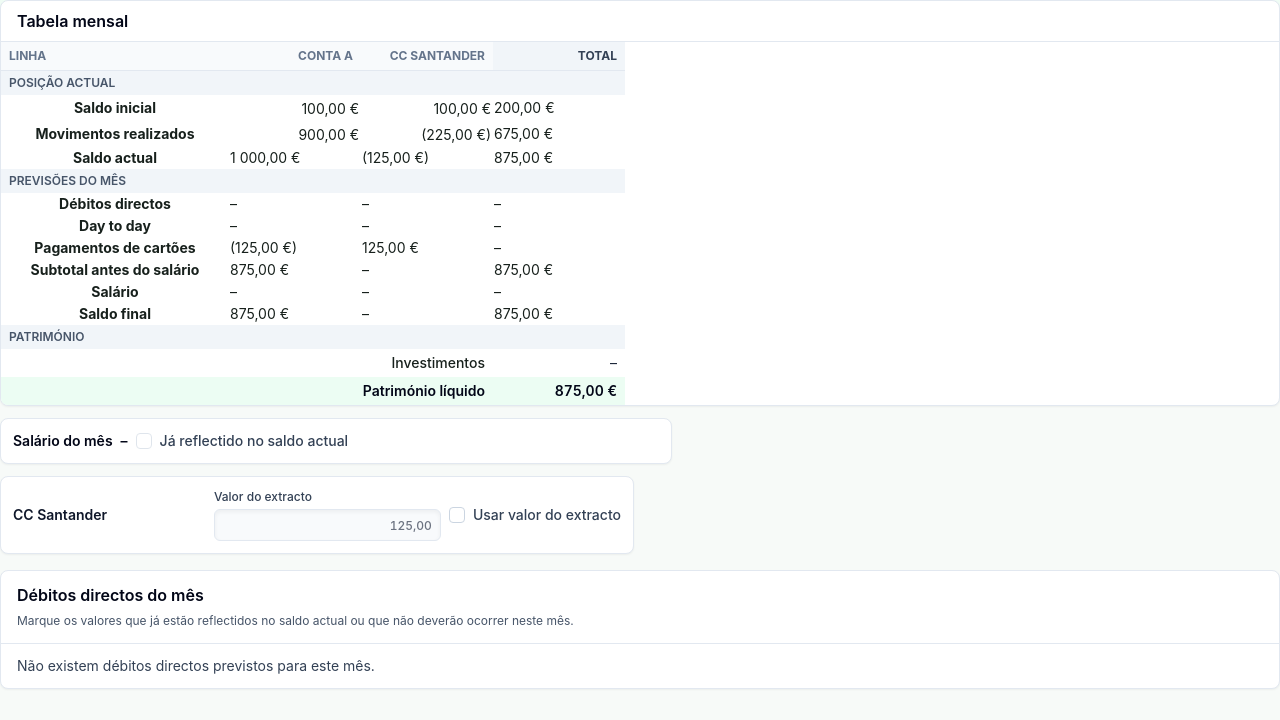
MonthlyBudgetTable › does not accept negative credit card statement overrides
Click the checkbox named "Usar valor do extracto — CC Santander": [457, 515] box [449,507,465,523]
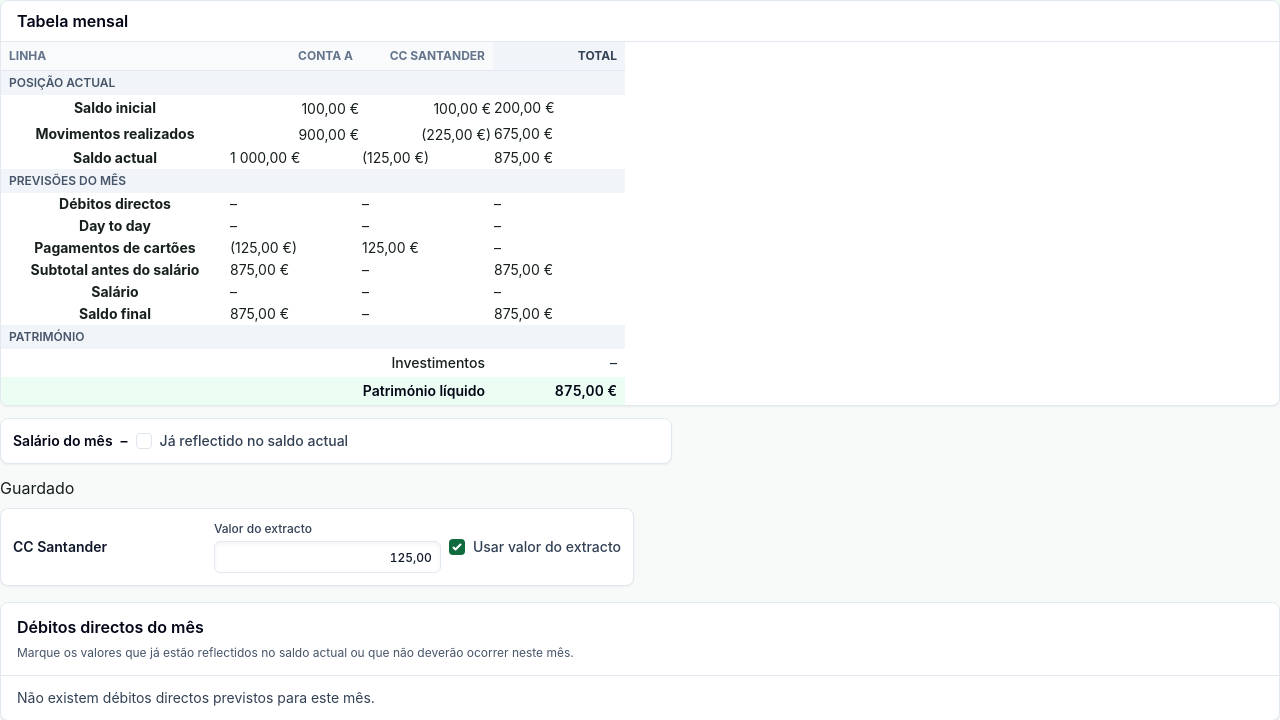
In the field named "Valor do extracto — CC Santander": [327, 557] box [214,541,441,573], type "-10,00"
Wait 650 ms
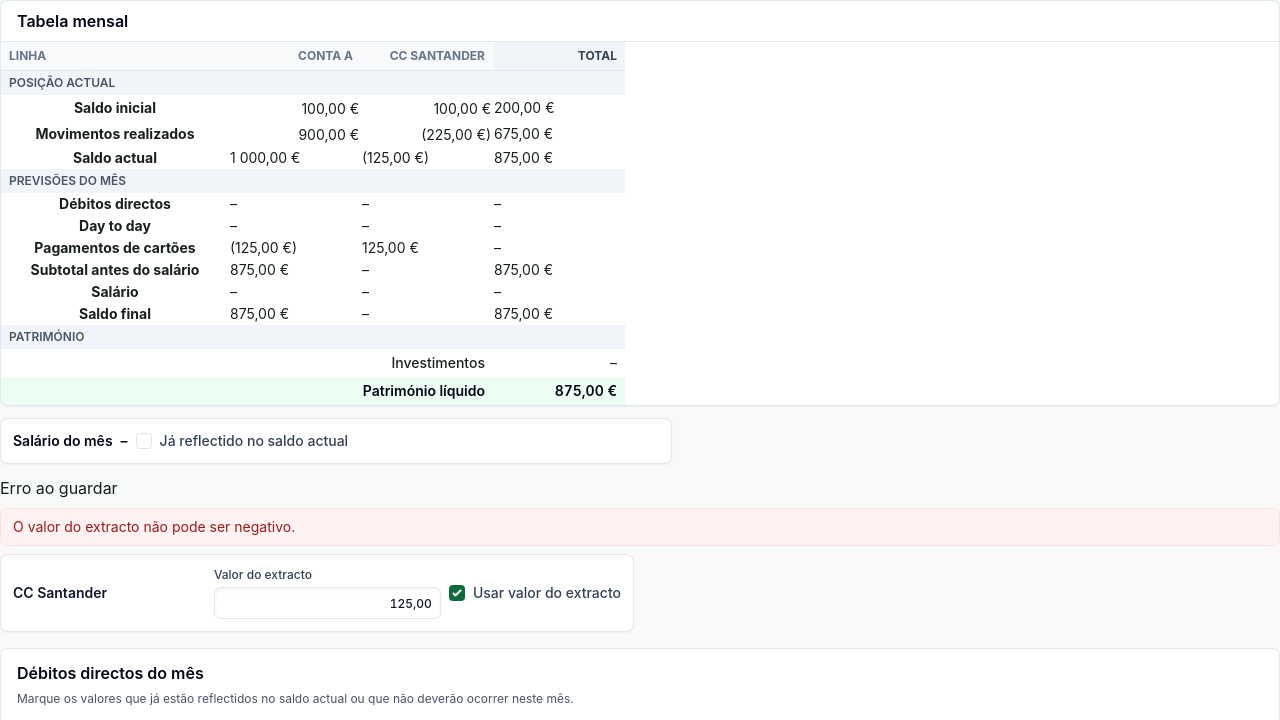
Expected: the field named "Valor do extracto — CC Santander" holds "125,00", [214,587,441,619]
Expected: the text "O valor do extracto não pode ser negativo." is shown, [0,508,1279,546]
